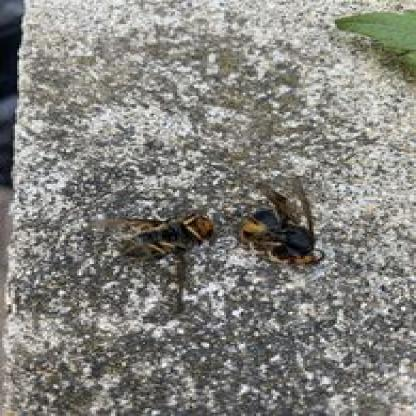Asian Hornet: (234, 174, 328, 274), (104, 204, 215, 267)
